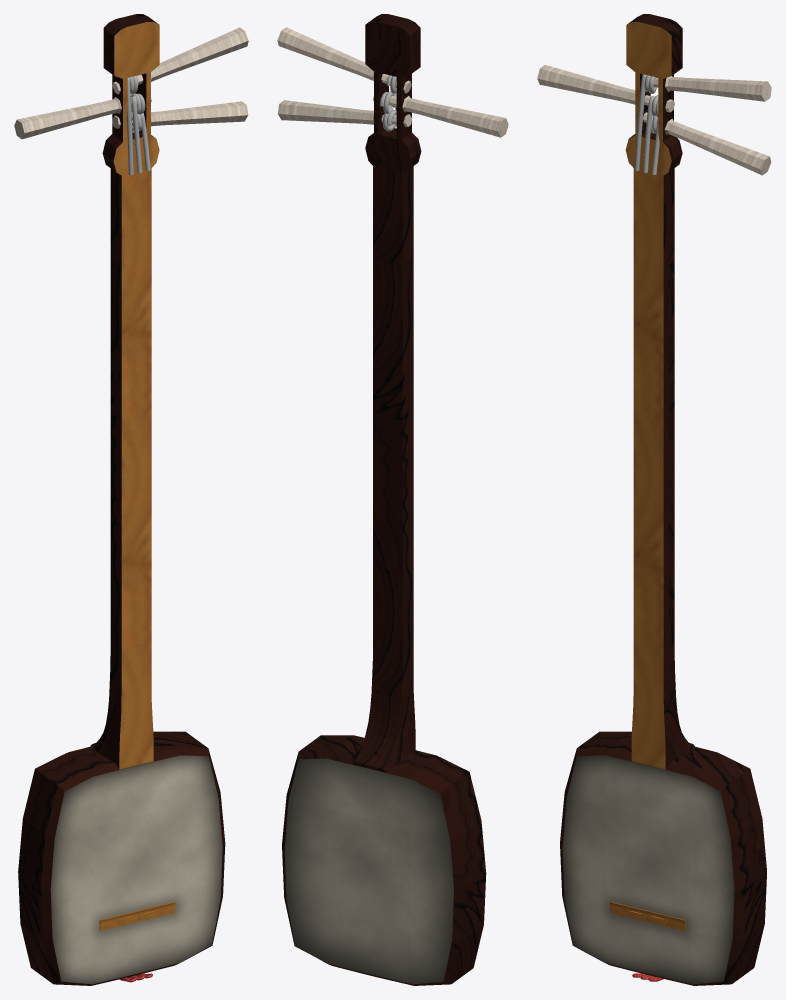
The model's file is Shamisen.fbx.
3 renders of one model, left to right at view 1: azimuth 30°, elevation 25°; view 2: azimuth 150°, elevation 25°; view 3: azimuth 330°, elevation 25°, orthographic.
Parts seen in each view (by area): view 1: Cube; view 2: Cube; view 3: Cube.
Boxes of the visible parts, x1,y1,x2,y2 form: Cube: [14, 14, 248, 985]; Cube: [277, 14, 508, 985]; Cube: [537, 14, 771, 985].
Bounding box in the file's own units: 13.11 × 53.21 × 3.66.
1 material, 1 textured.
